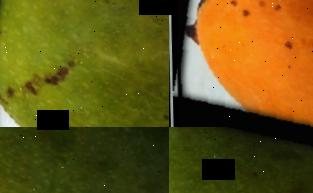Ripe: (171, 0, 313, 127)
Unripe: (0, 0, 169, 127), (0, 127, 169, 193), (169, 127, 313, 193)
